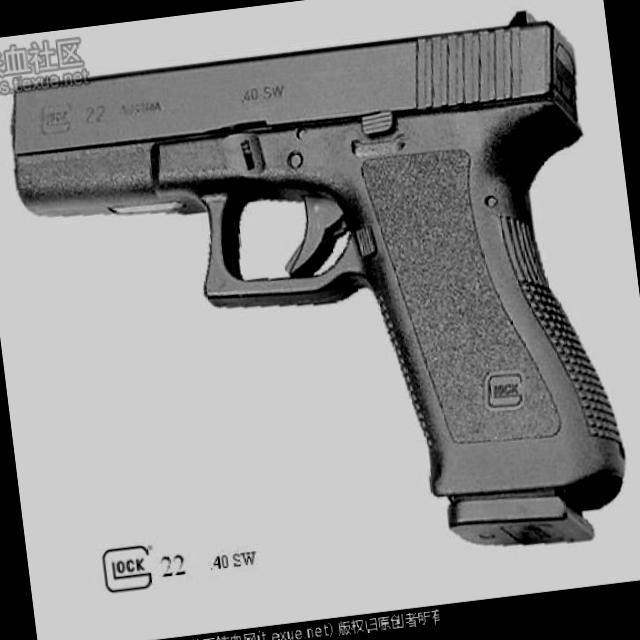handgun: (0, 2, 632, 606)
